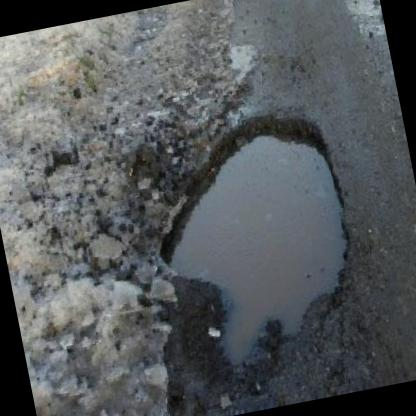pothole: (132, 99, 374, 376), (36, 146, 84, 193), (82, 224, 128, 264)
